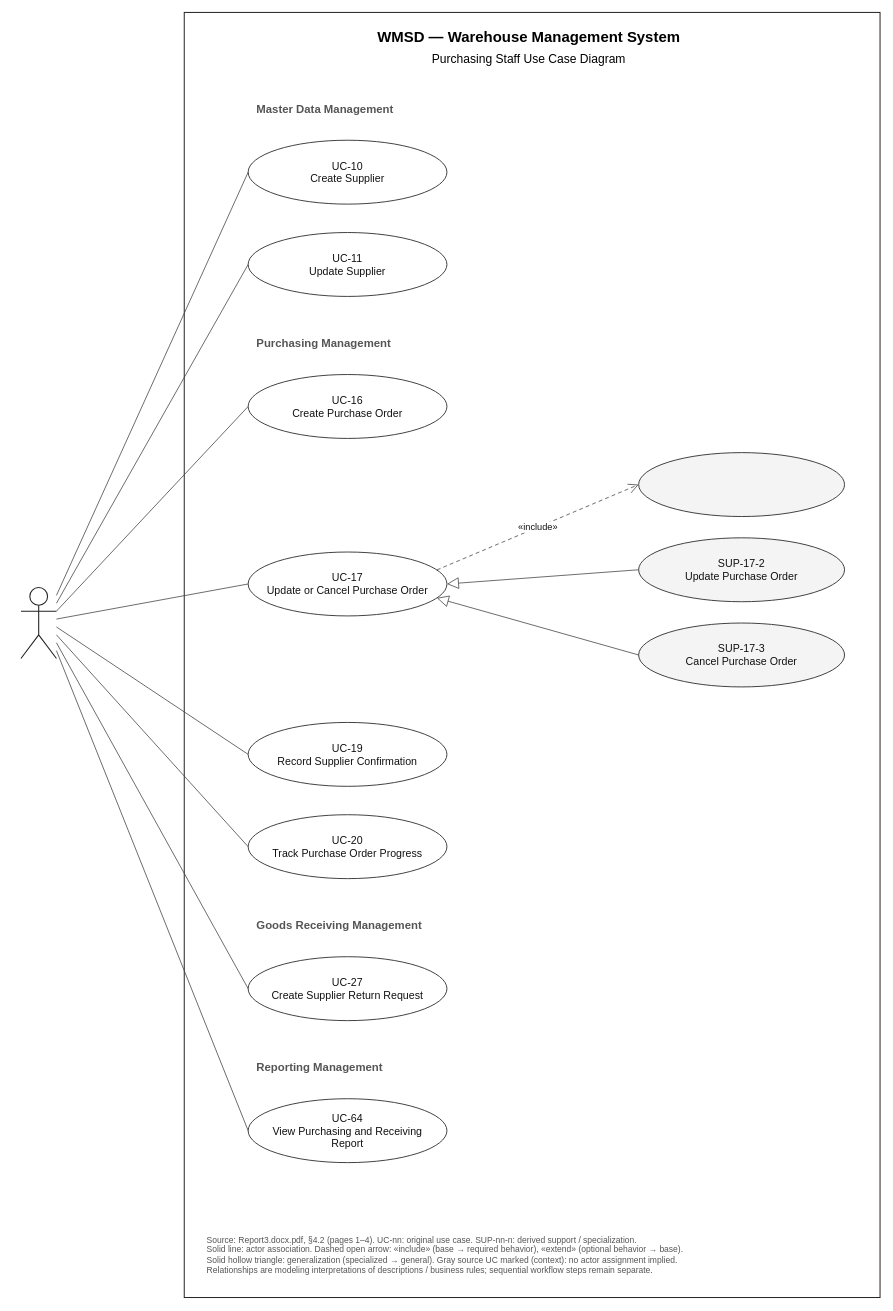
The diagram is 893 pixels wide and 1311 high, and some of its shapes have lost their labels. The centre of each missing label's shape, as x and y in pixels:
"Purchasing Staff" goes at [38,623].
"SUP-17-1 Validate Already Received Quantities" goes at [741,484].
